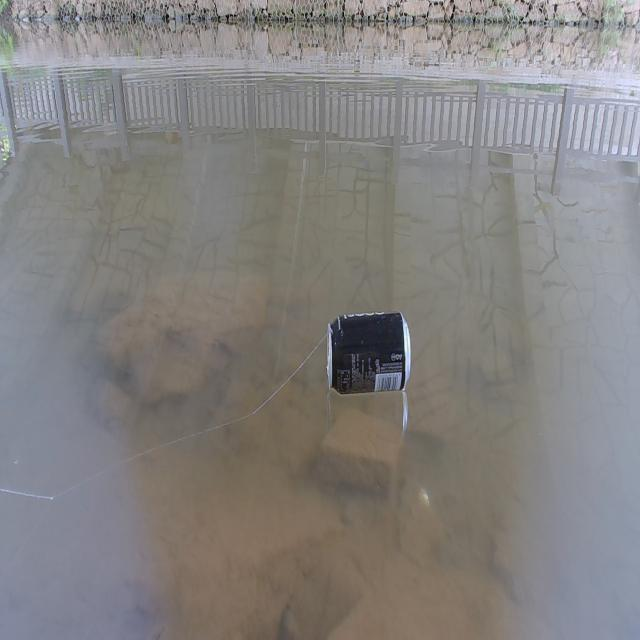garbage: (326, 310, 412, 396)
